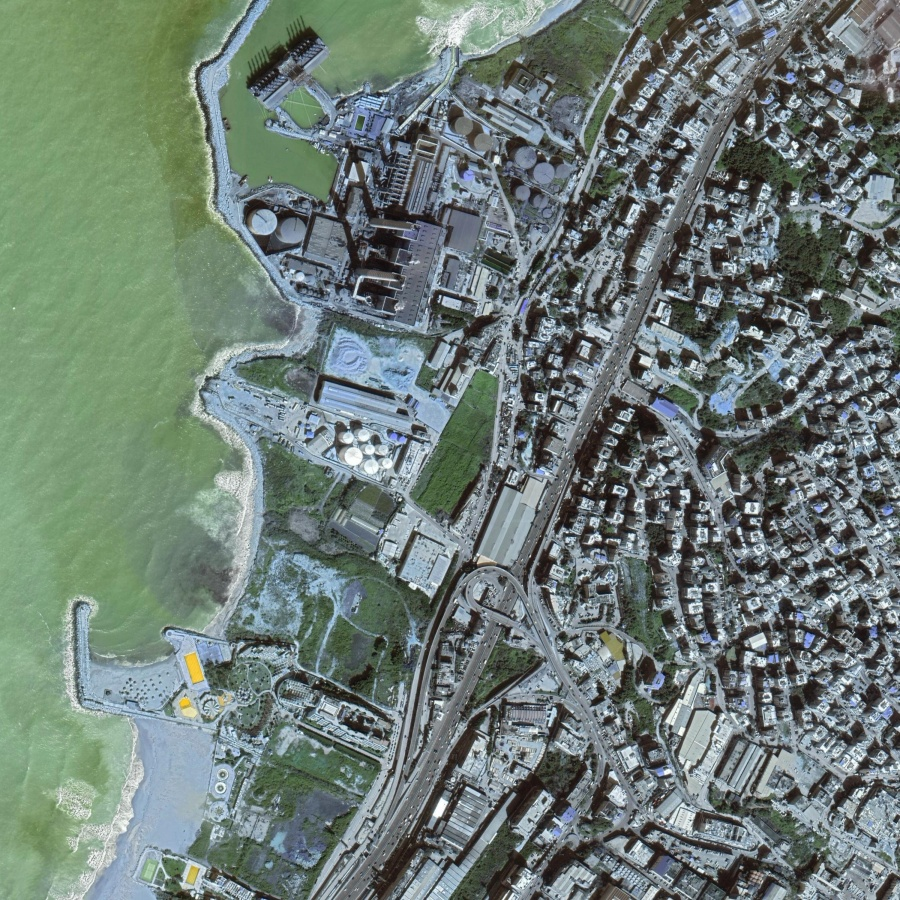PowerPlant: (235, 41, 580, 472)
